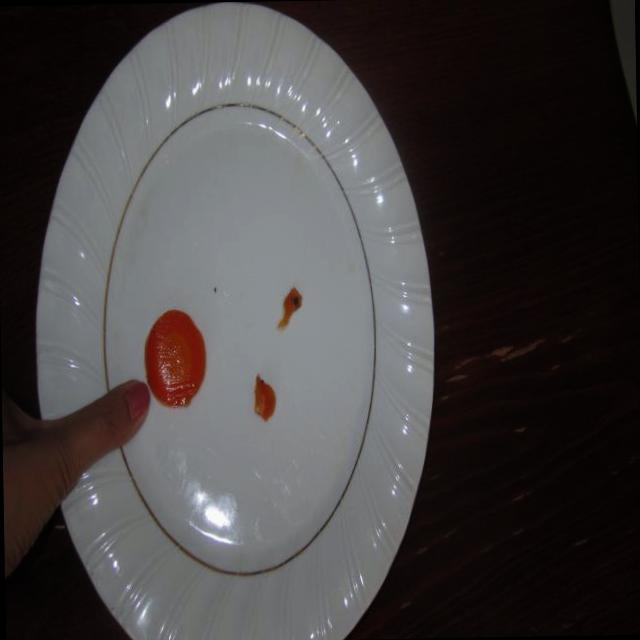Carrot: (140, 302, 212, 418)
Finger: (81, 374, 155, 464)
